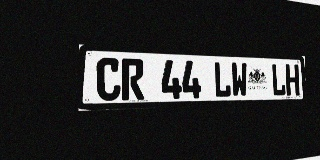4: (161, 60, 182, 99), (182, 60, 201, 99)
C: (96, 57, 121, 101)
H: (285, 64, 299, 96)
L: (213, 62, 231, 98), (271, 64, 286, 96)
R: (121, 58, 144, 100)
W: (231, 62, 248, 97)
